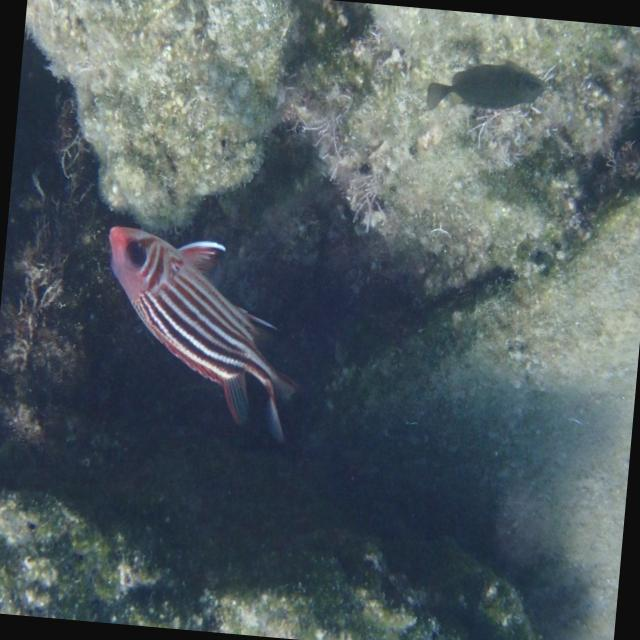Asker Baligi: (82, 195, 321, 461)
